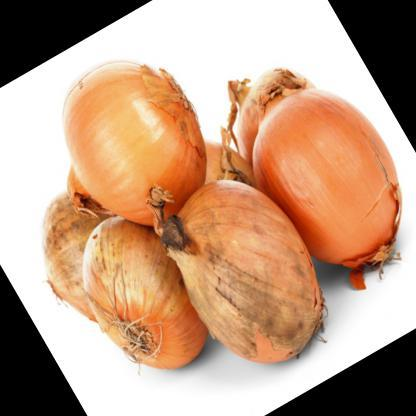onion: (227, 52, 415, 300), (32, 32, 238, 255)
